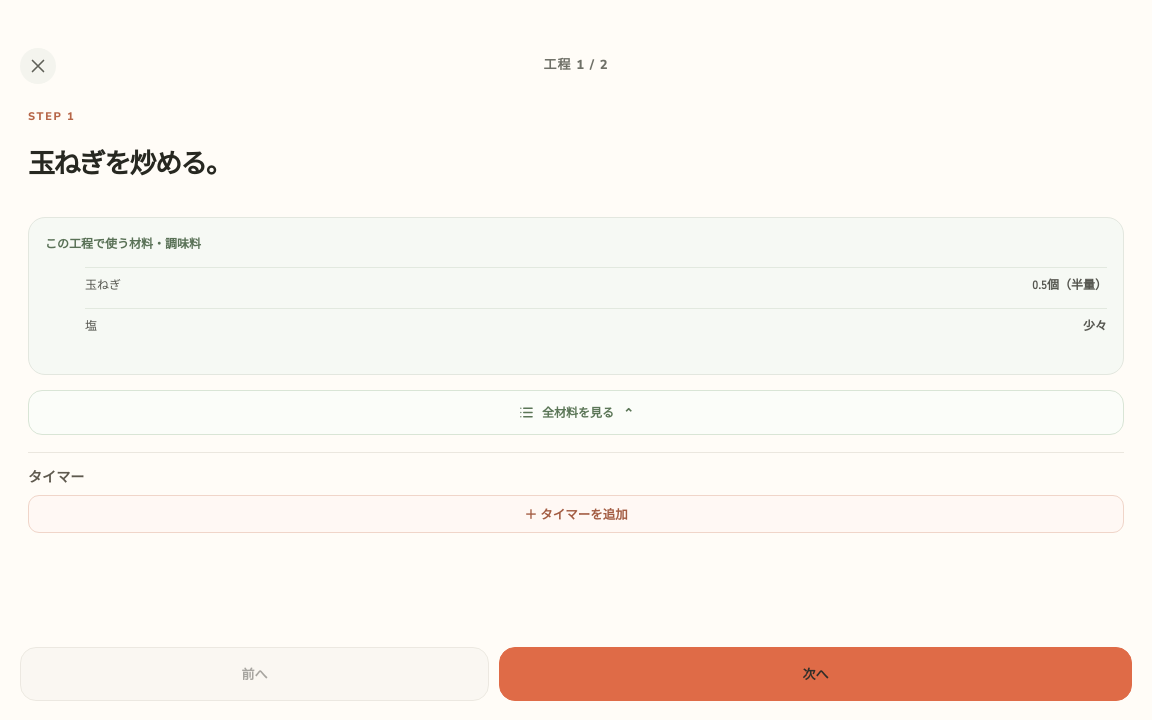
CookingMode › keeps cooking usable when a stored recipe contains an invalid timer suggestion
This screenshot has width=1152, height=720.
Expected: the text "玉ねぎを炒める。" is shown, [28,142,231,181]
Click the button "次へ".
click(815, 674)  # box [499,647,1132,701]
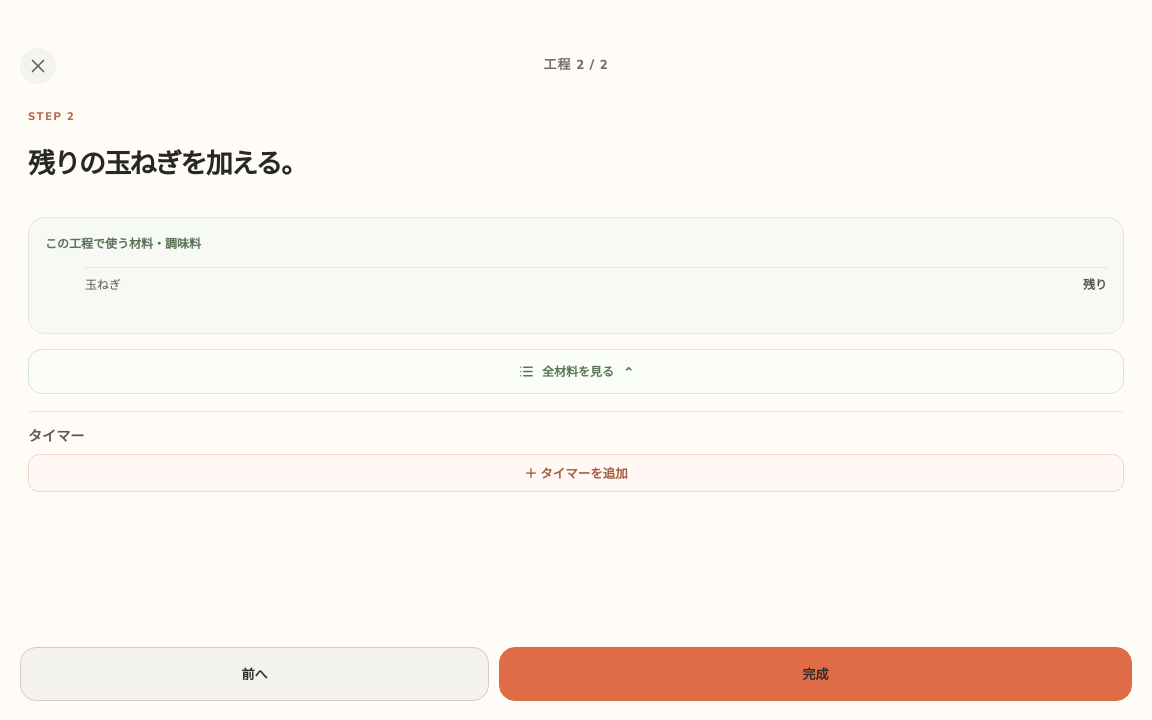
Result: the text "工程 2 / 2" is shown at [544,56,609,74]
